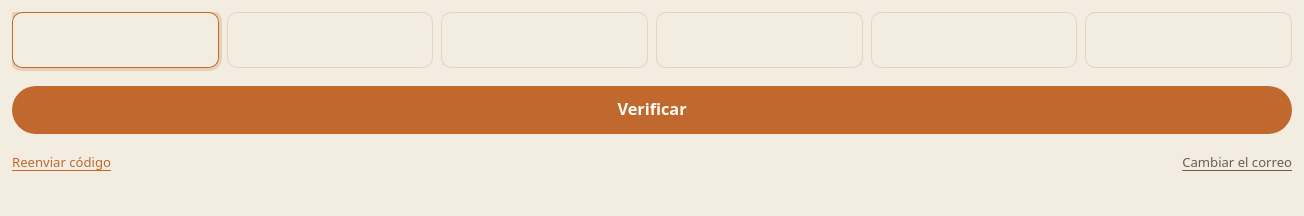
Scenario: VerifyForm › renders the wrong-code error without clearing the typed digits
Type "1" into the field named "Dígito 1 de 6" at (115, 40), box [12,12,219,68]
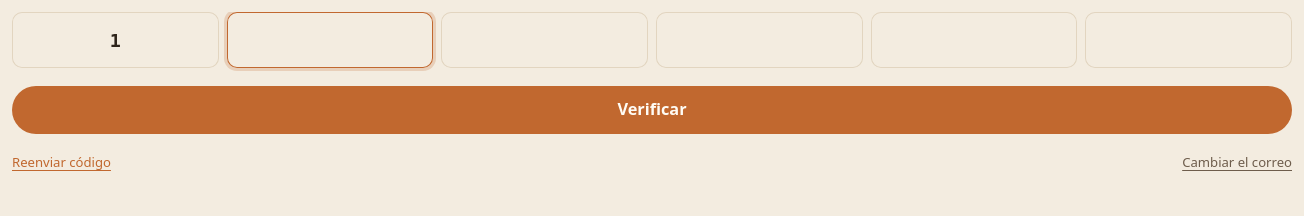
Type "2" into the field named "Dígito 2 de 6" at (330, 40), box [227,12,433,68]
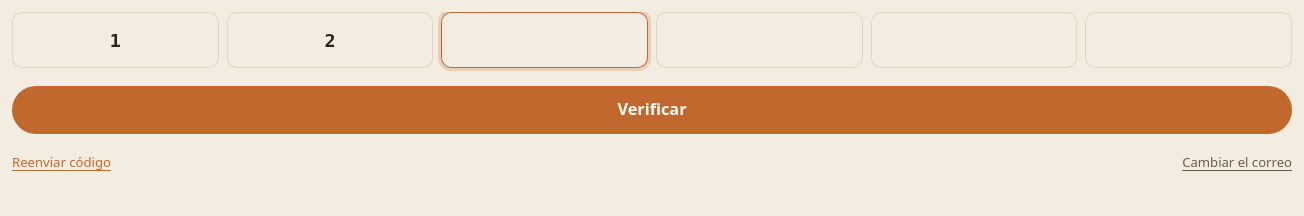
Type "3" into the field named "Dígito 3 de 6" at (545, 40), box [441,12,648,68]
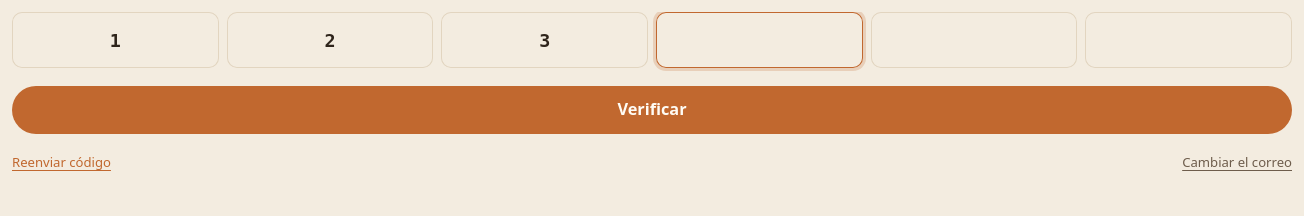
Type "4" into the field named "Dígito 4 de 6" at (759, 40), box [656,12,863,68]
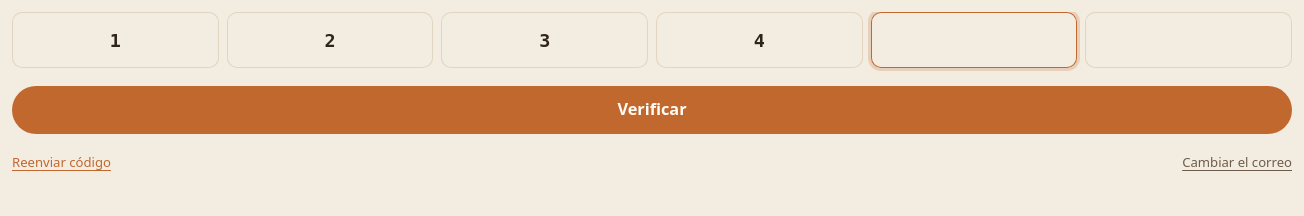
Type "5" into the field named "Dígito 5 de 6" at (974, 40), box [871,12,1077,68]
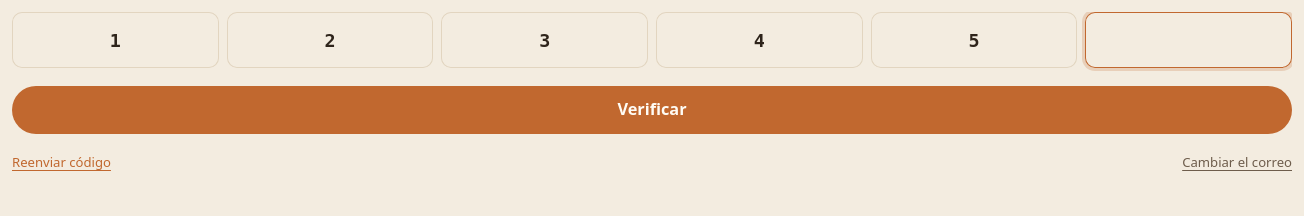
Type "6" into the field named "Dígito 6 de 6" at (1189, 40), box [1085,12,1292,68]
Click the button "Verificar" at (652, 110), box [12,86,1292,134]
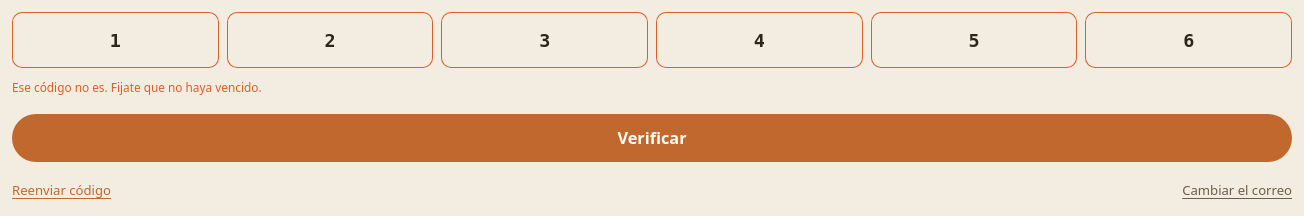
Expected: the text "Ese código no es. Fijate que no haya vencido." is shown, [12,79,262,95]
